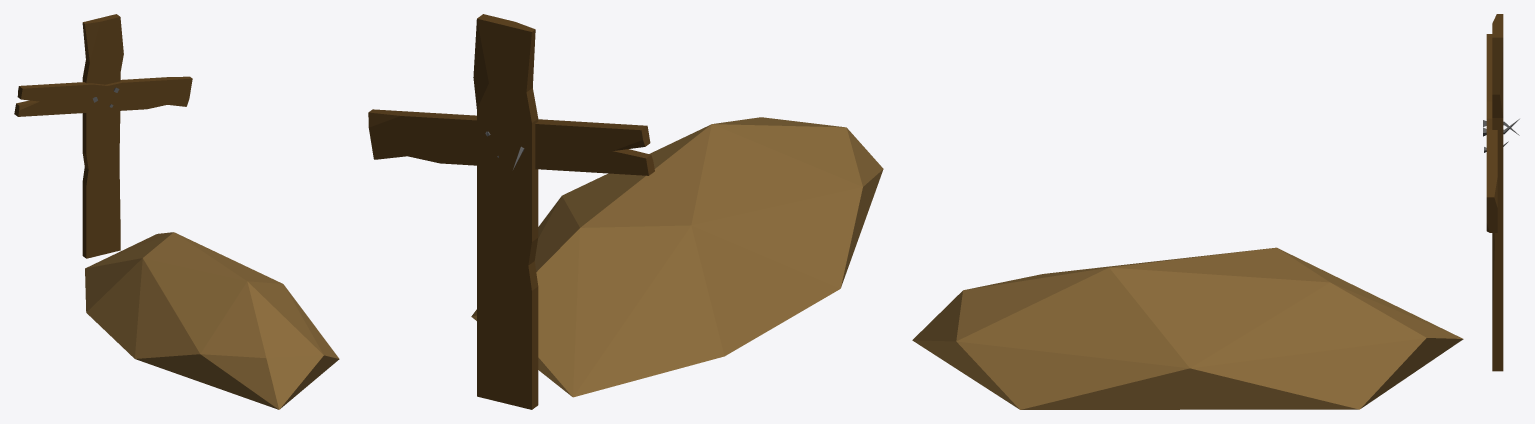
File: Grave.fbx
3 views of the same model, side by side, from view 1: azimuth 30°, elevation 25°; view 2: azimuth 150°, elevation 25°; view 3: azimuth 270°, elevation 25° (orthographic). The views are drawn at different scales.
Parts seen in each view (by area): view 1: Grave, Cross; view 2: Grave, Cross; view 3: Grave, Cross.
Boxes of the visible parts, box(x1,y1,x2,y2) form: Grave: box(85, 232, 339, 409); Cross: box(14, 14, 192, 258); Grave: box(471, 117, 883, 397); Cross: box(368, 14, 654, 409); Grave: box(912, 247, 1463, 409); Cross: box(1483, 14, 1519, 371).
Size of the model in its own units: 103 by 132 by 217.
